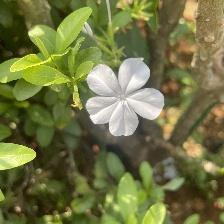chitrak: (82, 57, 166, 138)
